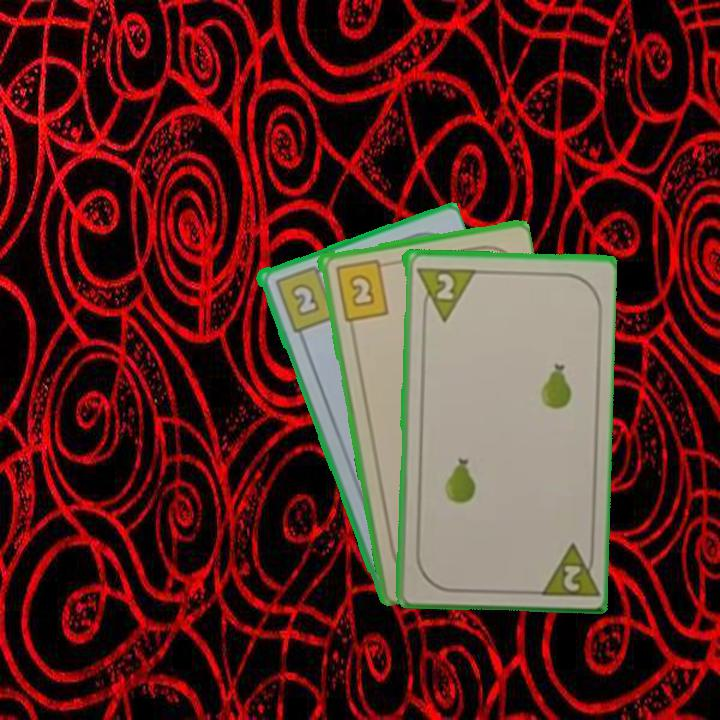2b: (271, 262, 338, 335), (331, 255, 392, 323)
2p: (533, 538, 598, 600), (430, 269, 456, 302)
